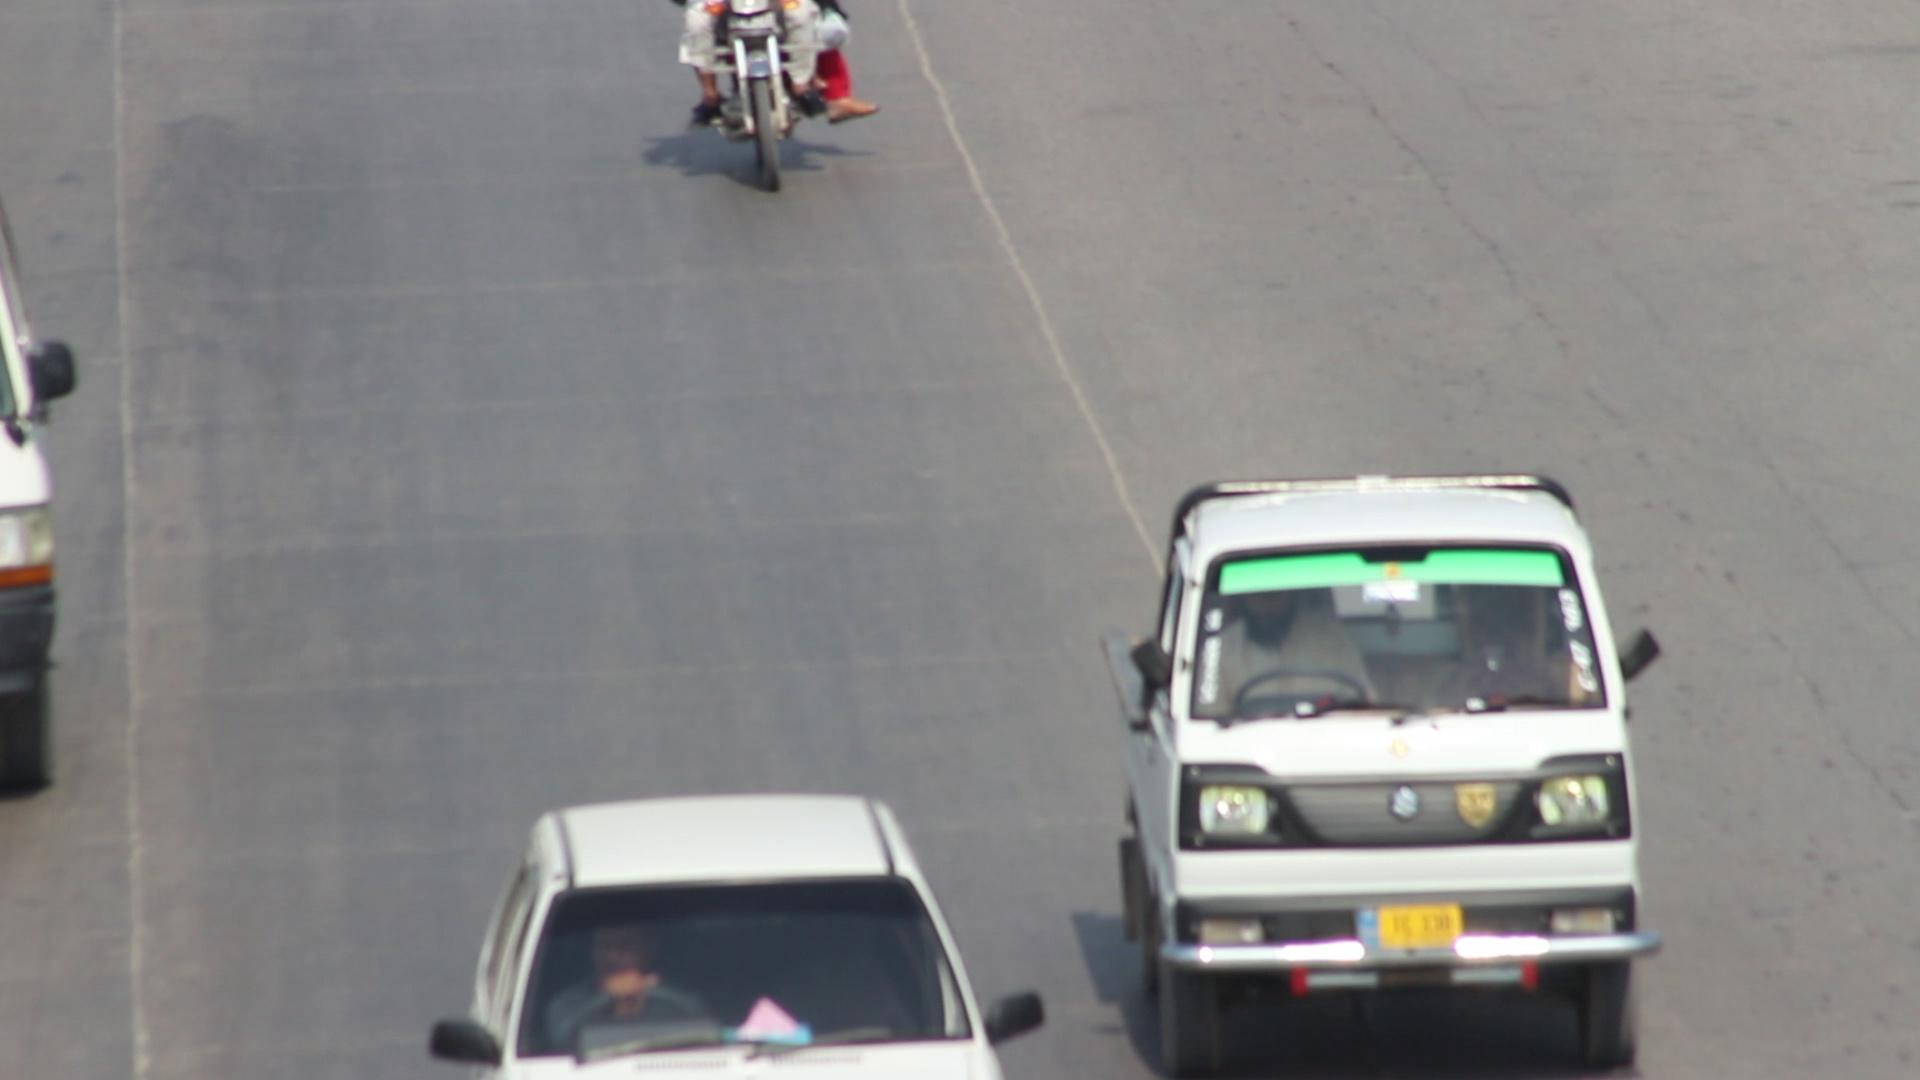windshield: (514, 864, 984, 1063), (1180, 537, 1614, 744)
